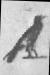G1: (3, 0, 47, 74)
